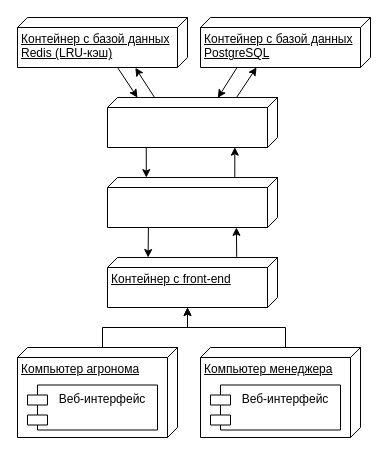
Image size: 388x455. Some labels were removed from this diagram. Here are the shapes that lost their labels. From the top down, the box of each, then its label:
(106, 96, 278, 148): Контейнер с back-end
(106, 176, 278, 228): Контейнер с RabbitMQ
